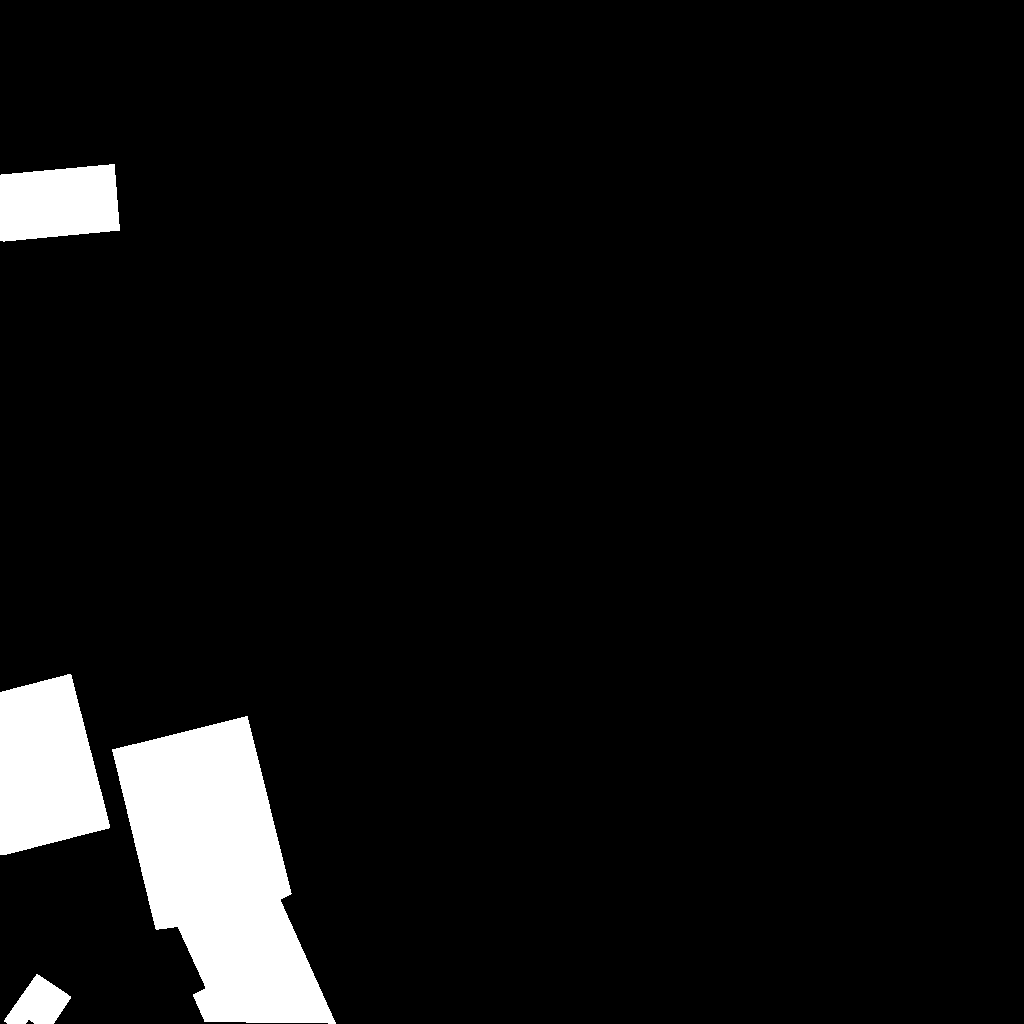building: (112, 716, 337, 1024), (0, 674, 111, 856), (0, 164, 121, 242), (4, 974, 72, 1024)
